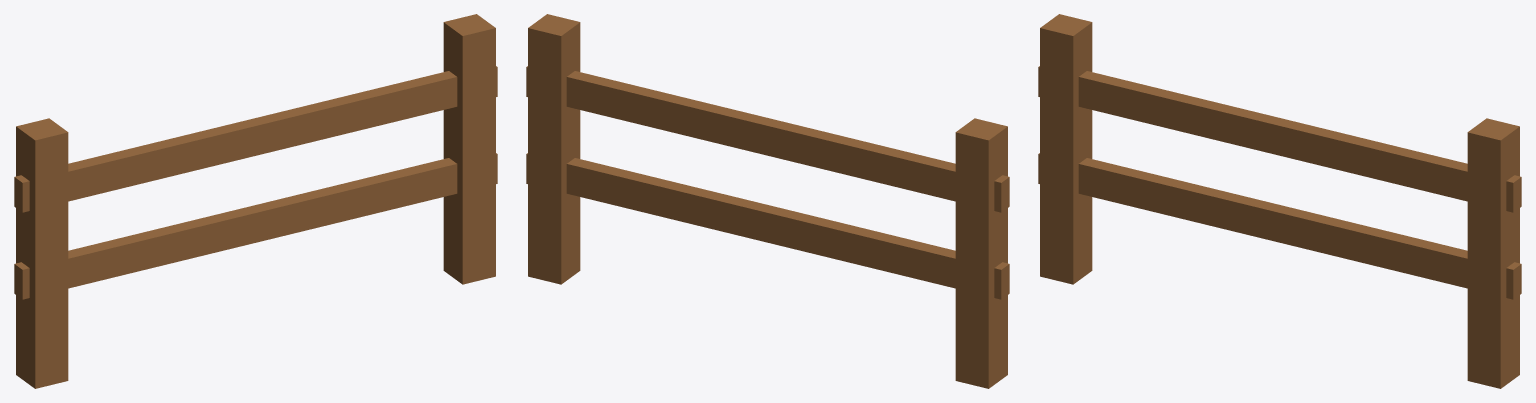
File: fence.glb
The picture shows the model from 3 angles, left to right: view 1: azimuth 30°, elevation 25°; view 2: azimuth 150°, elevation 25°; view 3: azimuth 330°, elevation 25°; orthographic projection.
Size of the model in its own units: 2 by 1 by 0.14.
